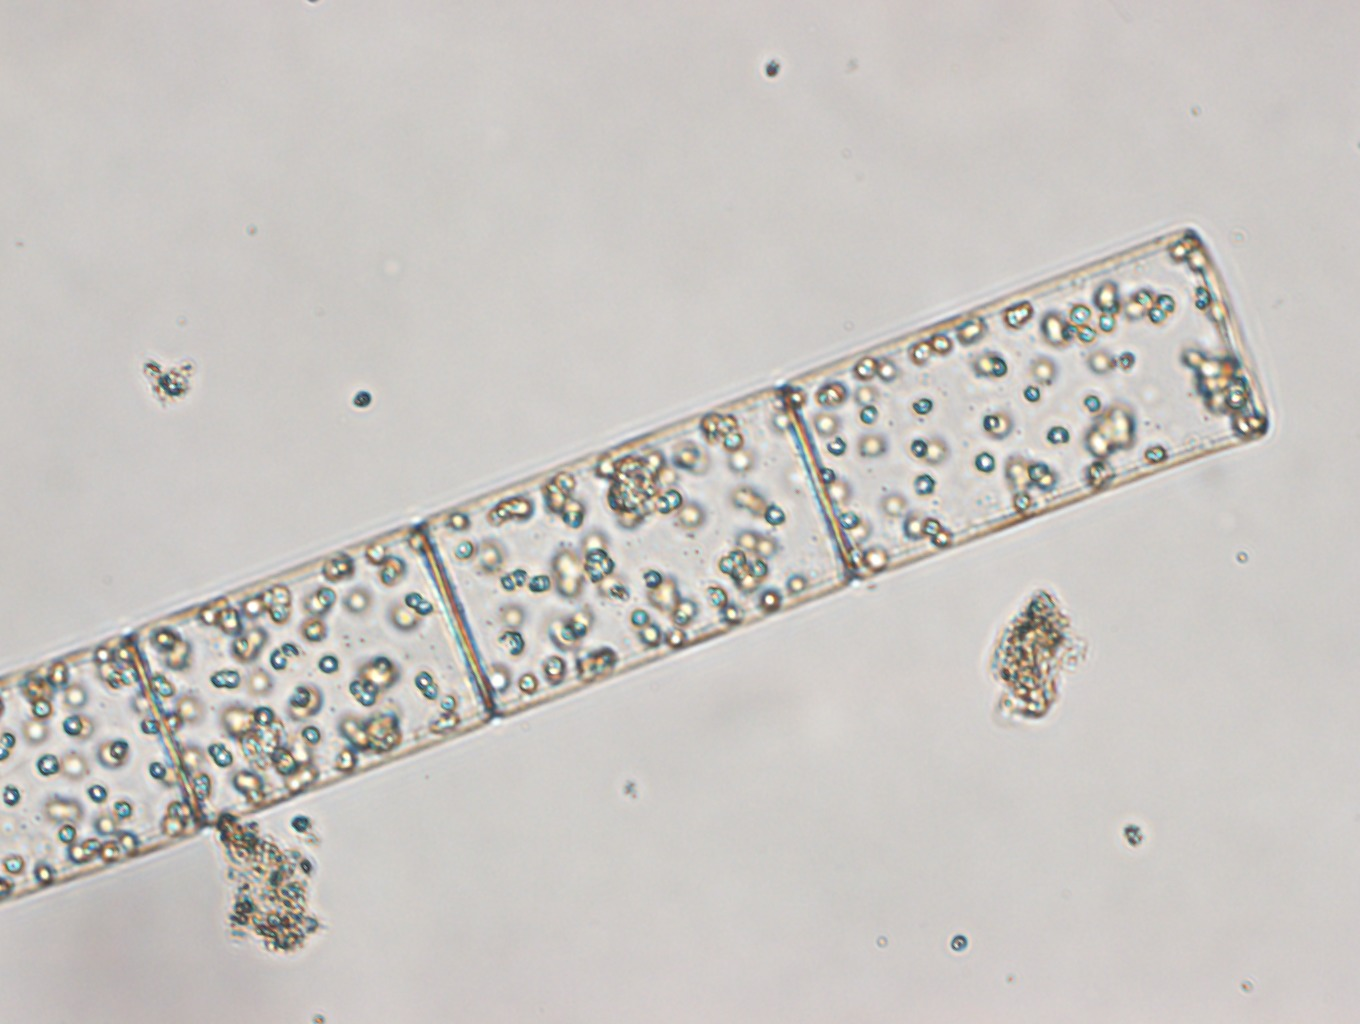guinardia flaccida: (1, 224, 1270, 909)
